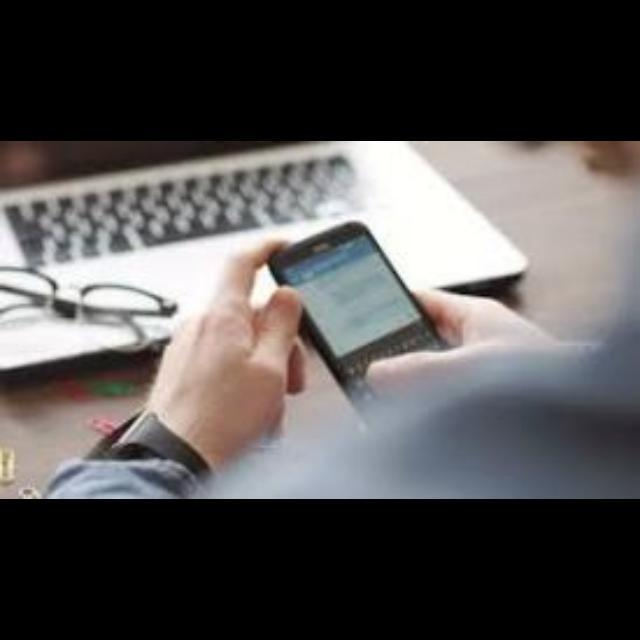Phone: (270, 232, 470, 414)
